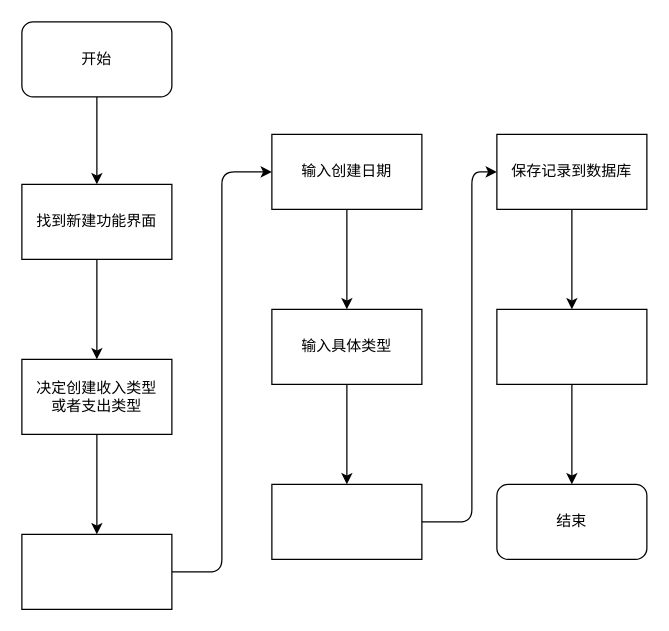
Image size: 669x631. Some labels were removed from this diagram. The shapes that lost their labels are listed below. From the top down, each one's centre as x and y in pixels, then its label:
At (571,346): "返回界面到首页".
At (346,521): "确认创建".
At (96,571): "输入记录金额".
